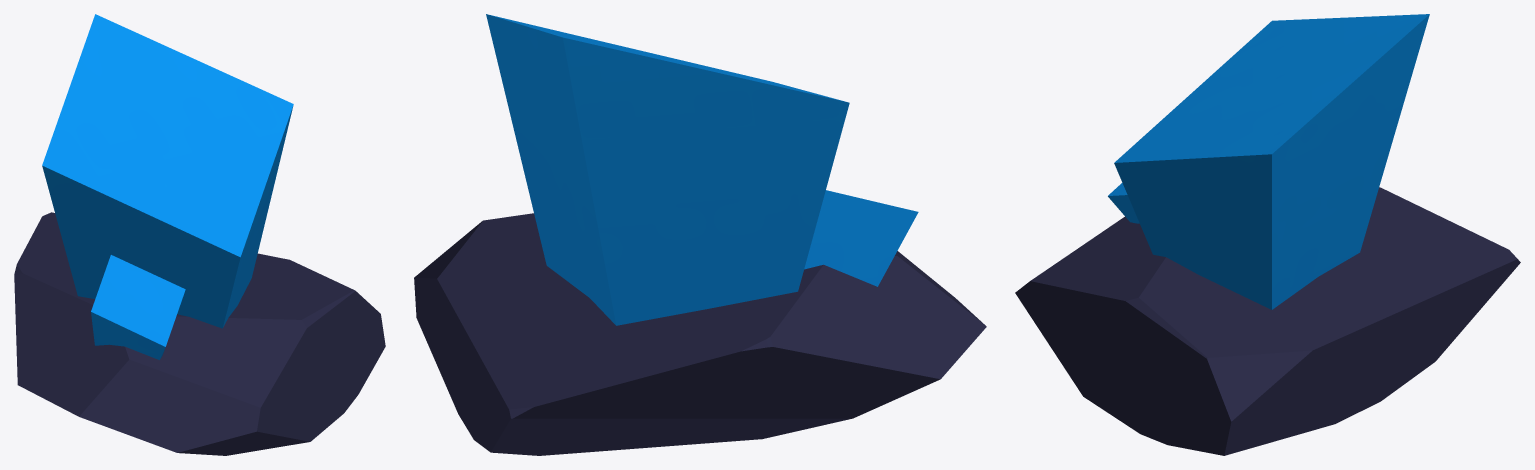
3 views of the same model, side by side, from view 1: azimuth 30°, elevation 25°; view 2: azimuth 150°, elevation 25°; view 3: azimuth 270°, elevation 25° (orthographic). The views are drawn at different scales.
Visible parts, largest first — view 1: Nó 4; view 2: Nó 4; view 3: Nó 4.
Boxes of the visible parts, bbox=[...] form: Nó 4: bbox=[14, 14, 385, 455]; Nó 4: bbox=[414, 14, 986, 455]; Nó 4: bbox=[1015, 14, 1520, 455].
Size of the model in its own units: 156 by 135 by 172.
2 materials, 1 textured.
